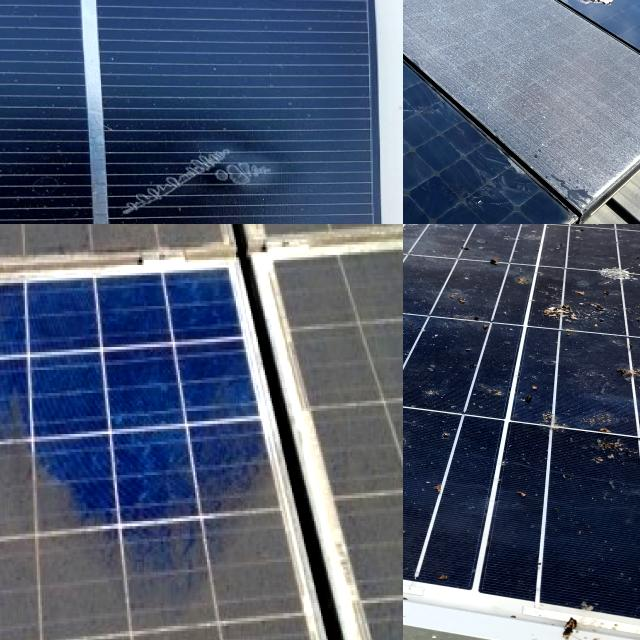bird: (403, 357, 471, 446), (403, 480, 468, 563), (572, 224, 640, 301), (403, 388, 436, 484), (403, 279, 452, 318), (403, 224, 457, 250), (403, 224, 438, 241)
dust: (0, 288, 87, 550), (0, 391, 84, 601), (103, 475, 205, 640), (403, 0, 476, 224), (403, 75, 511, 224), (302, 330, 403, 475), (225, 481, 314, 640), (405, 0, 546, 74), (10, 224, 206, 277), (340, 490, 403, 640), (273, 243, 403, 306), (231, 224, 403, 271), (45, 224, 234, 266), (565, 51, 640, 154), (0, 571, 95, 640), (0, 224, 92, 284), (0, 224, 106, 274), (227, 224, 403, 246), (535, 0, 640, 34), (520, 88, 558, 161), (468, 0, 514, 8)
